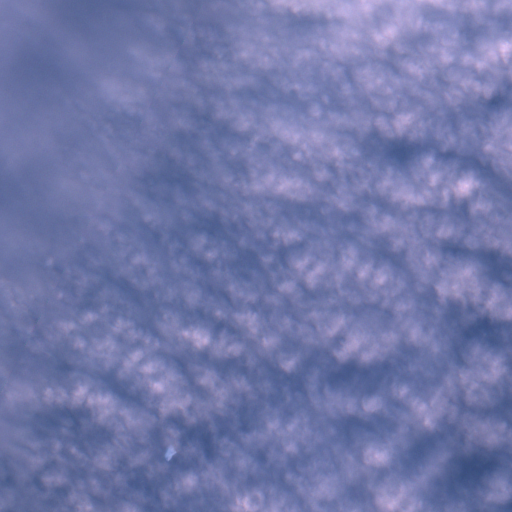Iceberg: (165, 446, 176, 461)
